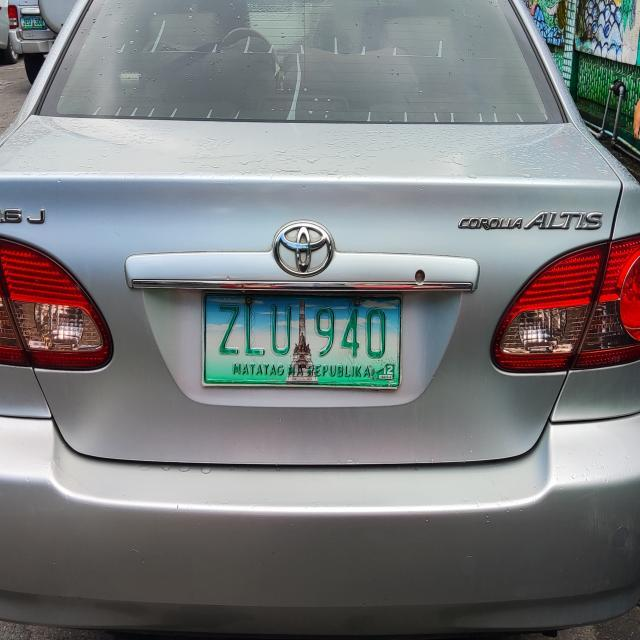LicensePlate: (197, 288, 407, 394)
